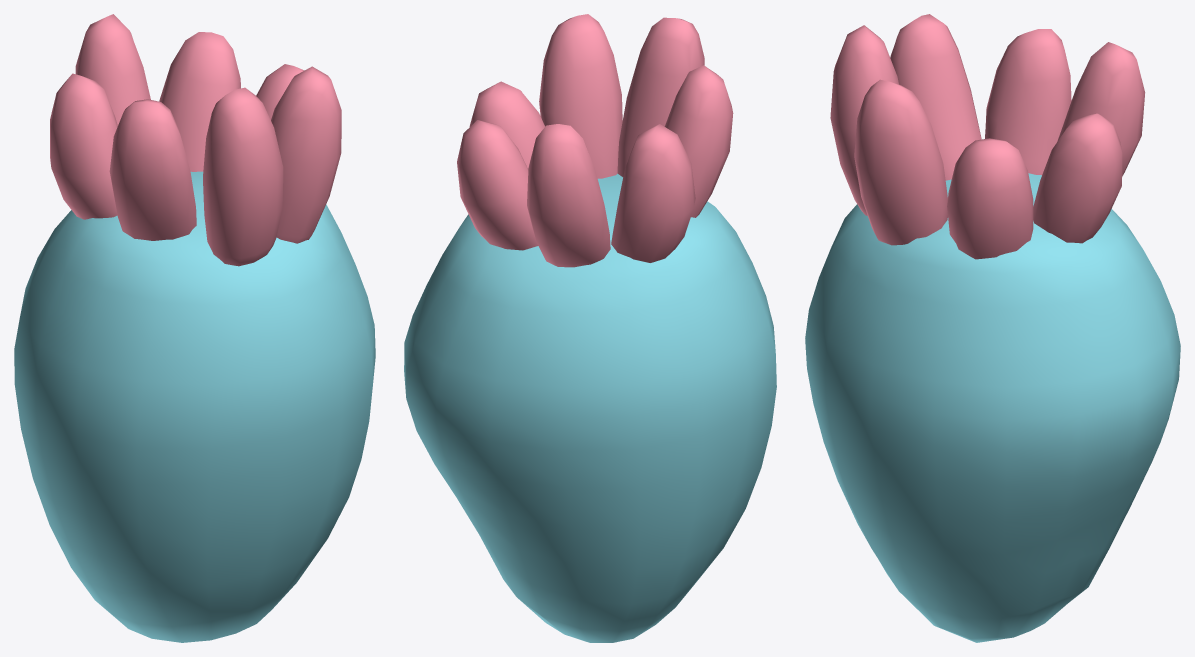
Rendered from Sponge_A_03.fbx.
The picture shows the model from 3 angles, left to right: view 1: azimuth 30°, elevation 25°; view 2: azimuth 150°, elevation 25°; view 3: azimuth 270°, elevation 25°; orthographic projection. The views are drawn at different scales.
Parts seen in each view (by area): view 1: Sponge_A_03_LOD0; view 2: Sponge_A_03_LOD0; view 3: Sponge_A_03_LOD0.
Part boxes in pixels (left/top/right/bottom): Sponge_A_03_LOD0: left=14, top=14, right=375, bottom=642; Sponge_A_03_LOD0: left=404, top=14, right=776, bottom=642; Sponge_A_03_LOD0: left=805, top=14, right=1180, bottom=642.
Size of what is drawn, in the model's own units: 261 by 451 by 261.
